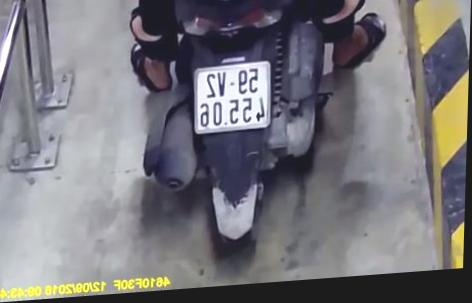License_Plate: (189, 56, 276, 141)
